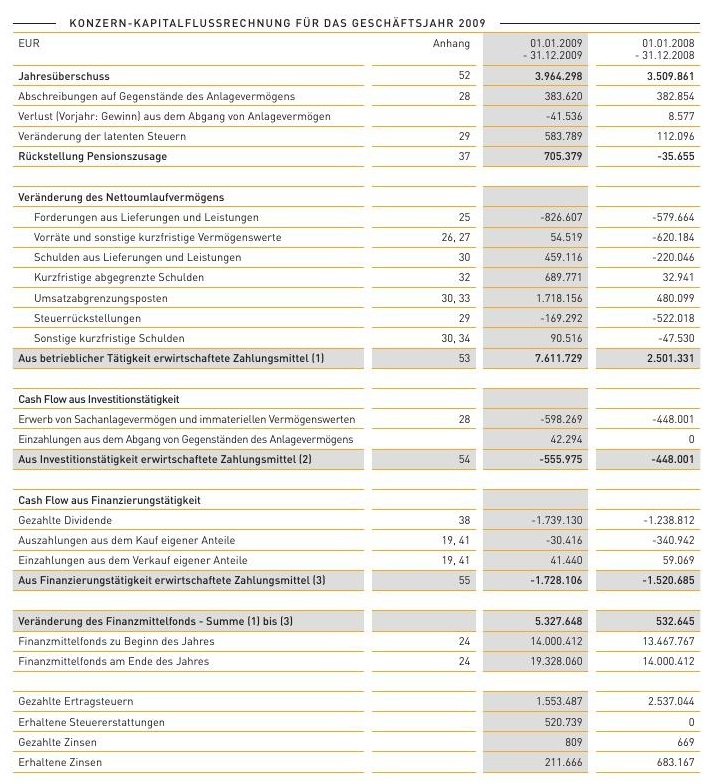table: (0, 0, 714, 783)
